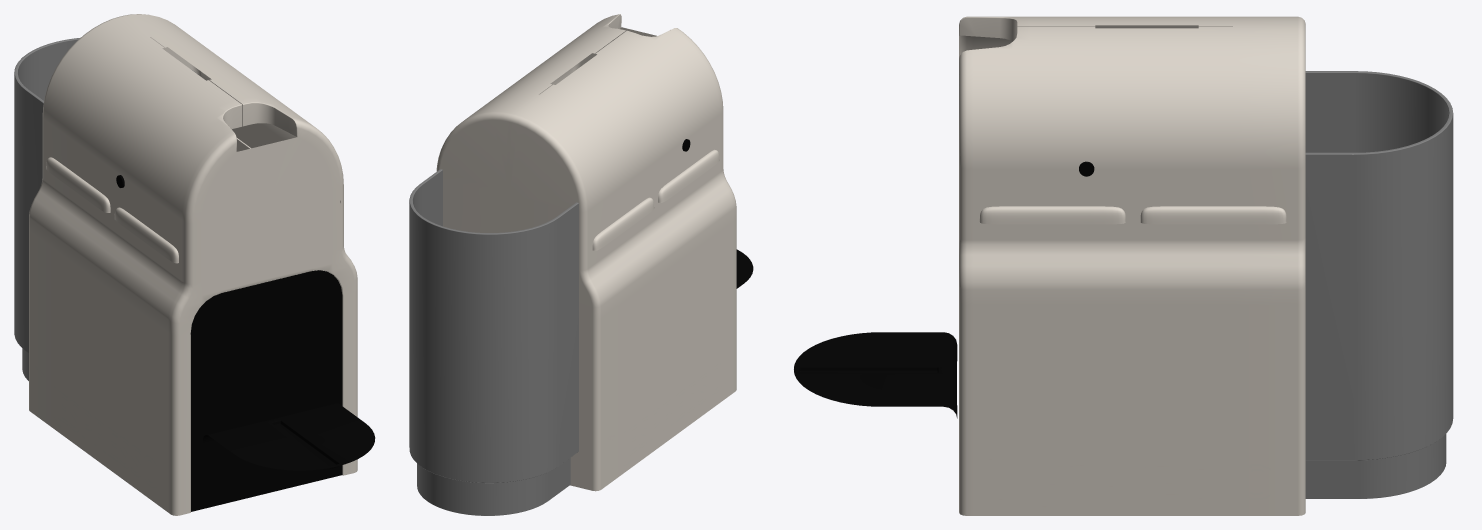
Rendered from electronic_68.001.fbx.
3 views of the same model, side by side, from view 1: azimuth 30°, elevation 25°; view 2: azimuth 150°, elevation 25°; view 3: azimuth 270°, elevation 25° (orthographic). The views are drawn at different scales.
Visible parts, largest first — view 1: electronic_68.001; view 2: electronic_68.001; view 3: electronic_68.001.
Boxes of the visible parts, x1,y1,x2,y2 form: electronic_68.001: [14, 14, 375, 515]; electronic_68.001: [409, 14, 753, 515]; electronic_68.001: [794, 16, 1453, 515].
Bounding box in the file's own units: 15.56 × 29.92 × 41.94.
2 materials, 2 textured.
